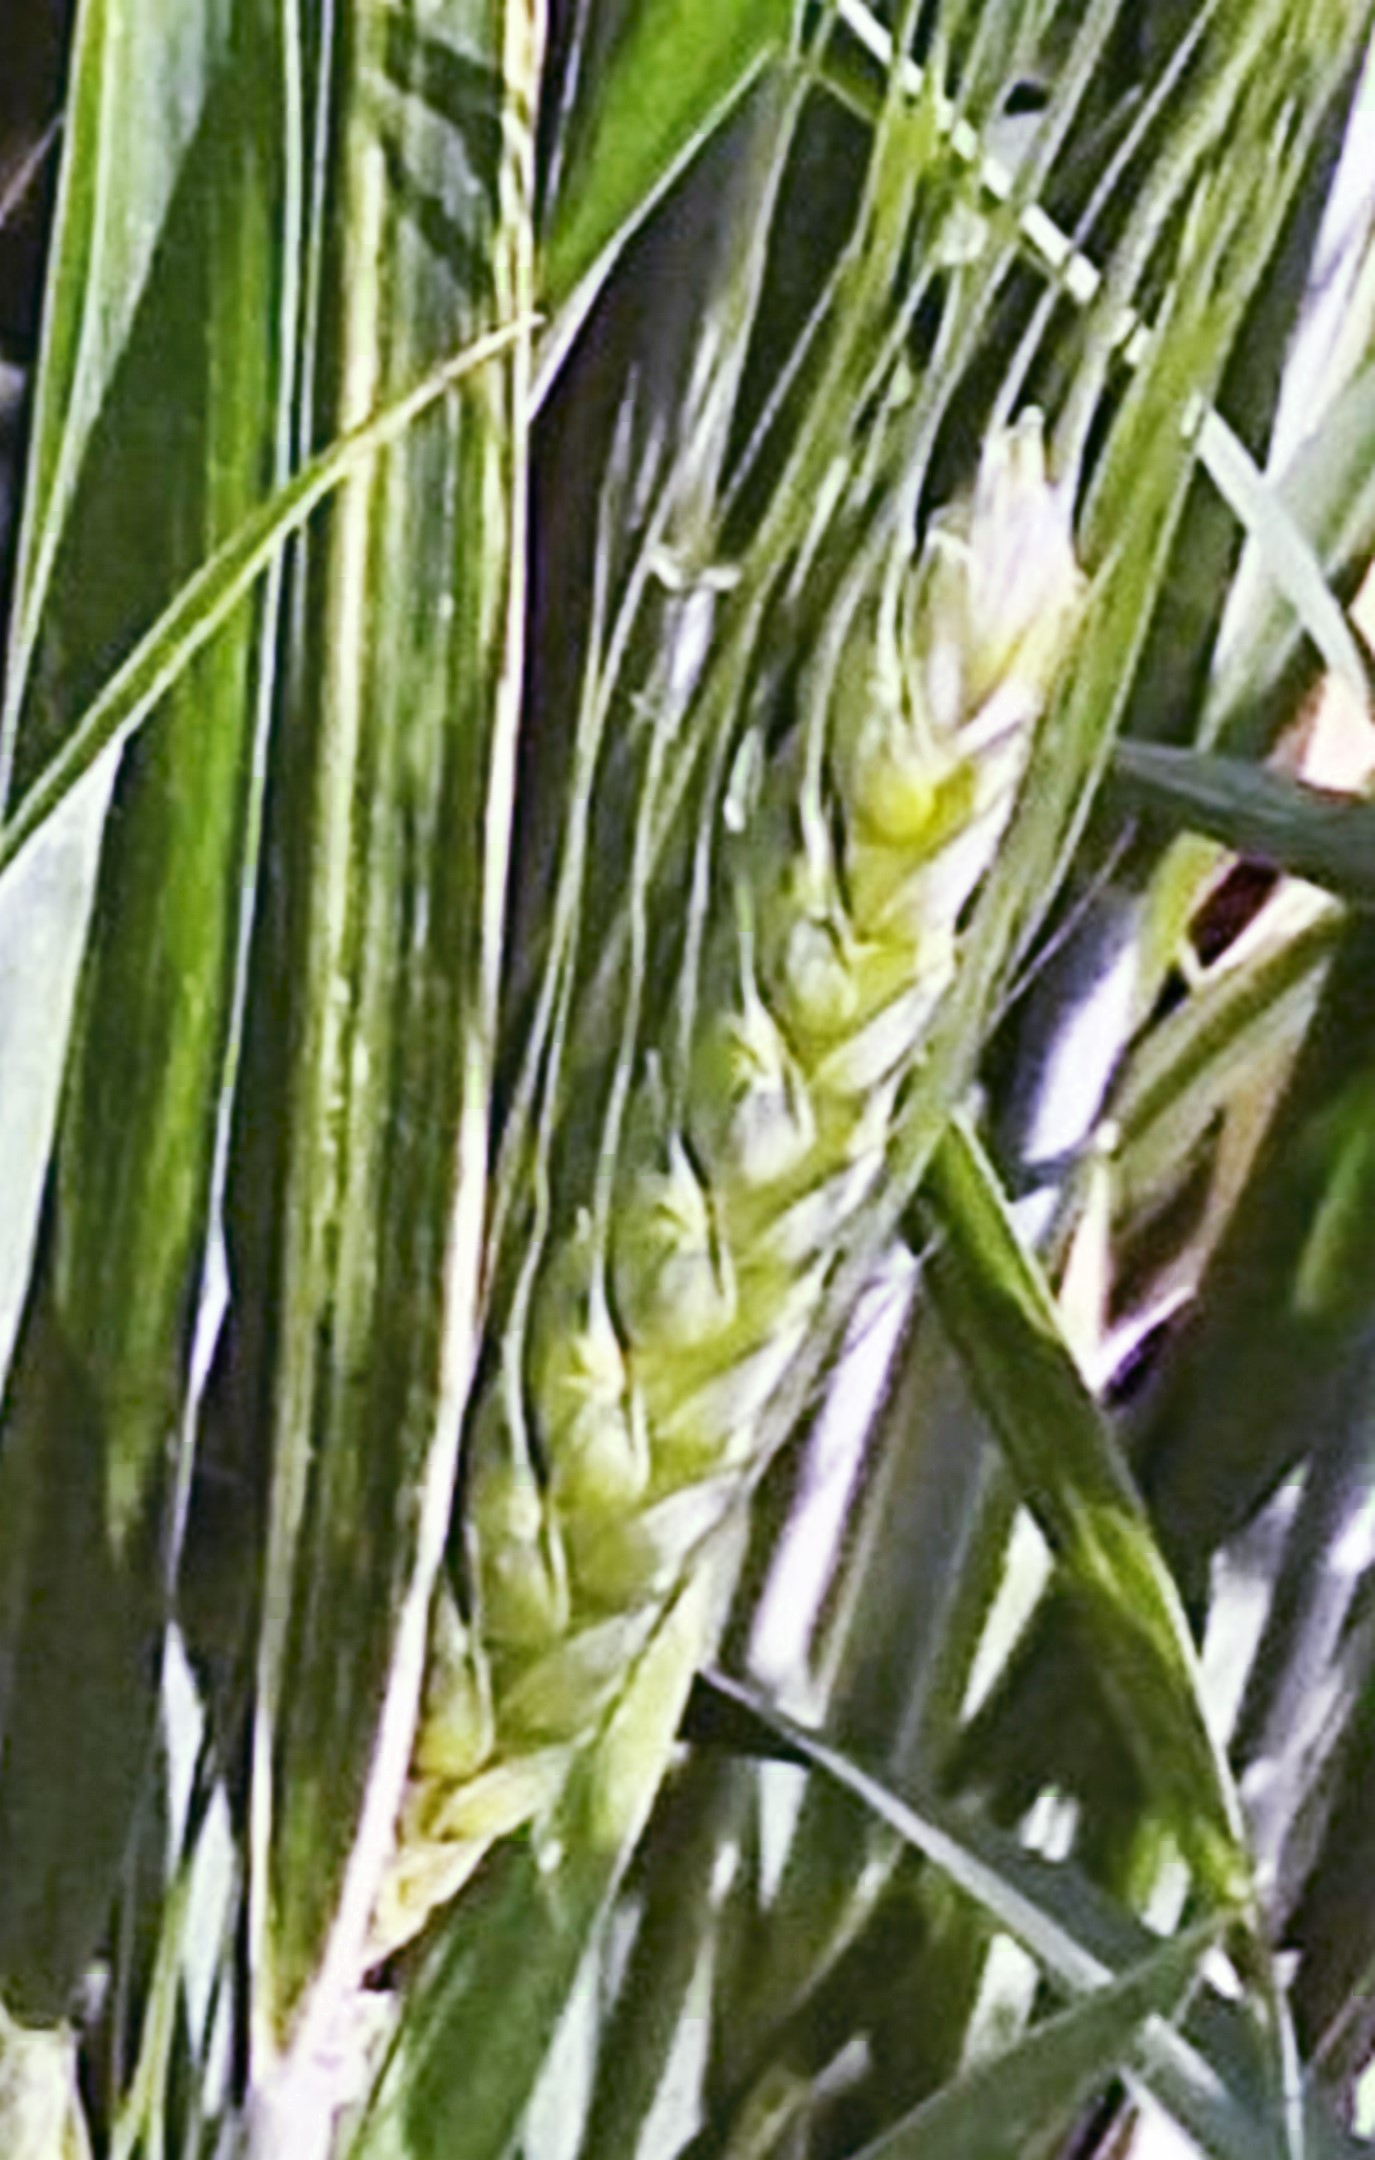Healthy Wheat: (391, 449, 1110, 1859)
